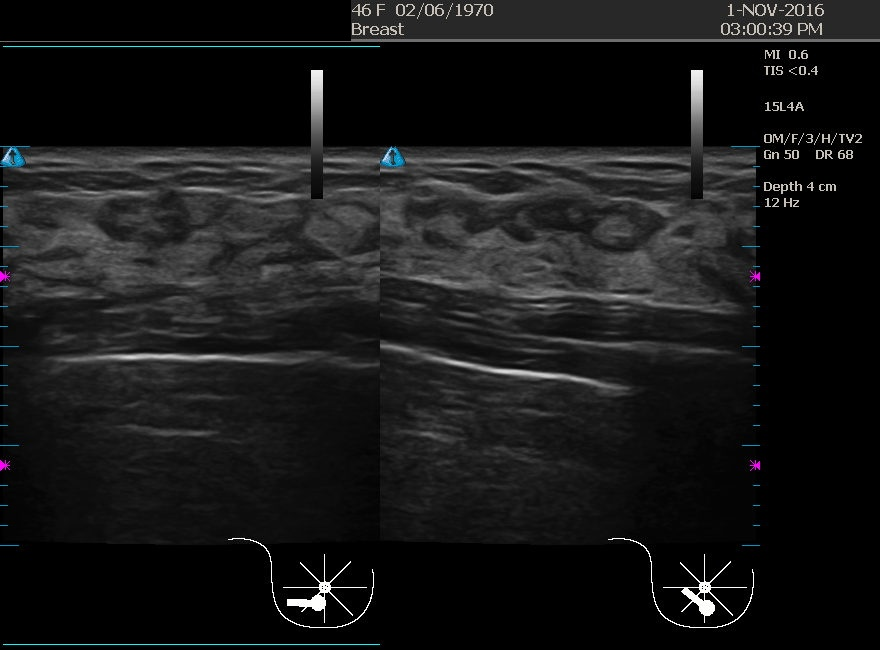BIRADS_3: (82, 166, 282, 366), (478, 164, 678, 364)
